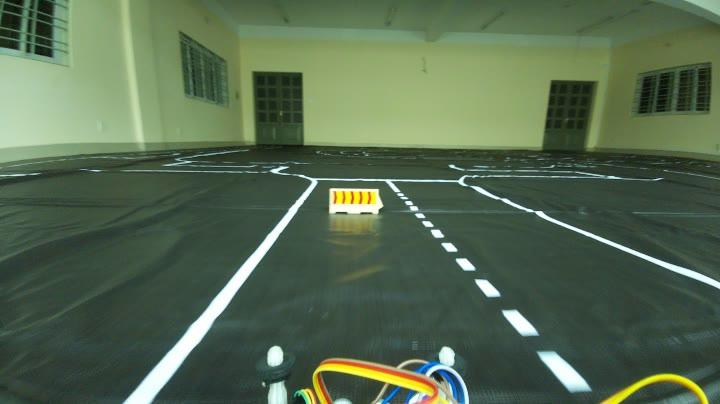roadblock: (325, 184, 388, 222)
